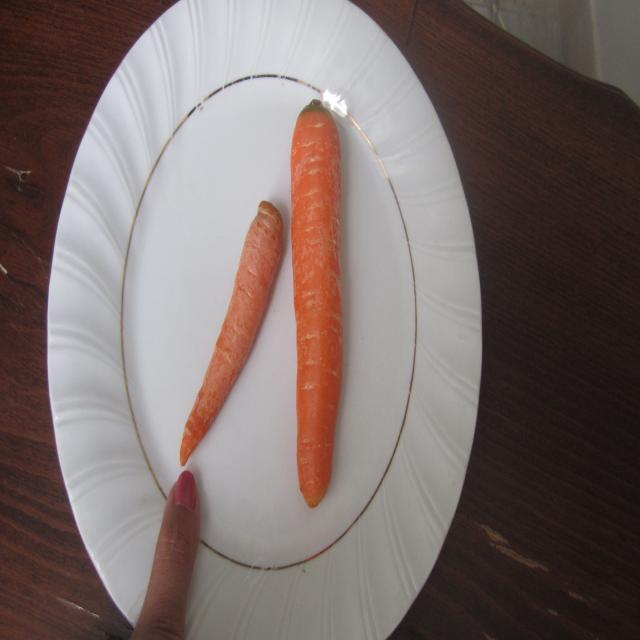carrot: (175, 83, 380, 511)
